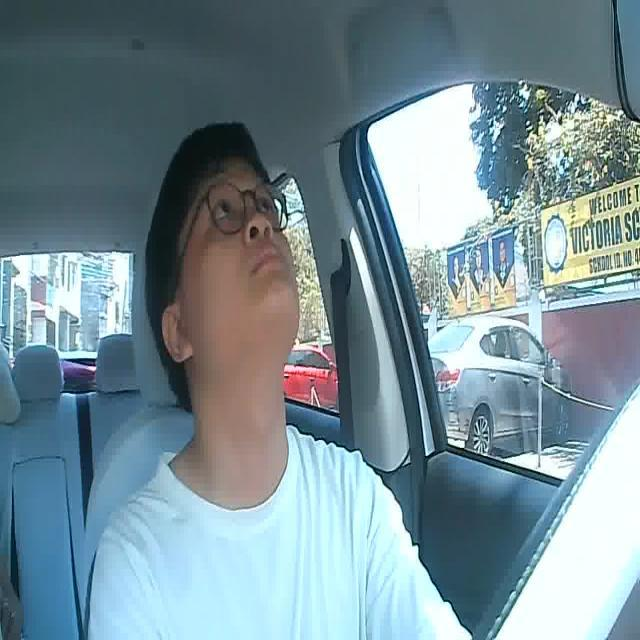Eye-Open: (215, 198, 238, 223), (254, 194, 273, 215)
Inattentive: (152, 110, 304, 385)
Normal: (252, 240, 292, 276)
